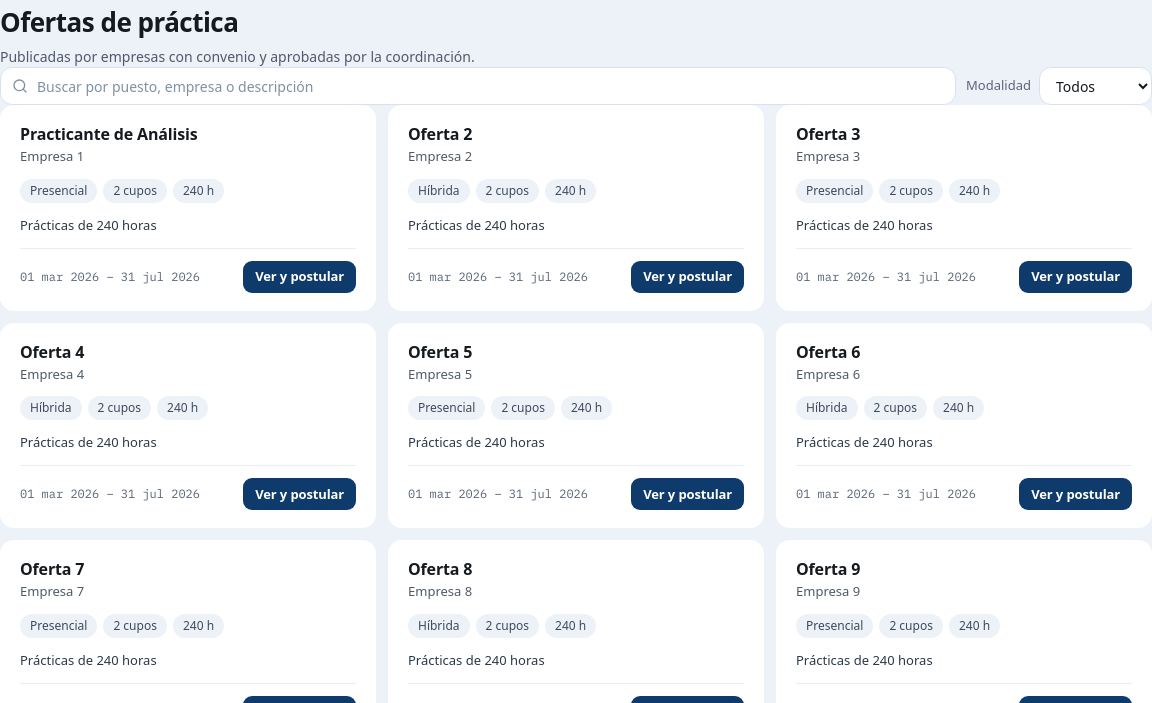
Test: OffersPage › searches without accents and filters by modality
The width and height of the screenshot is (1152, 703).
Type "analisis" into the search field at (478, 86), box [0, 67, 956, 105]
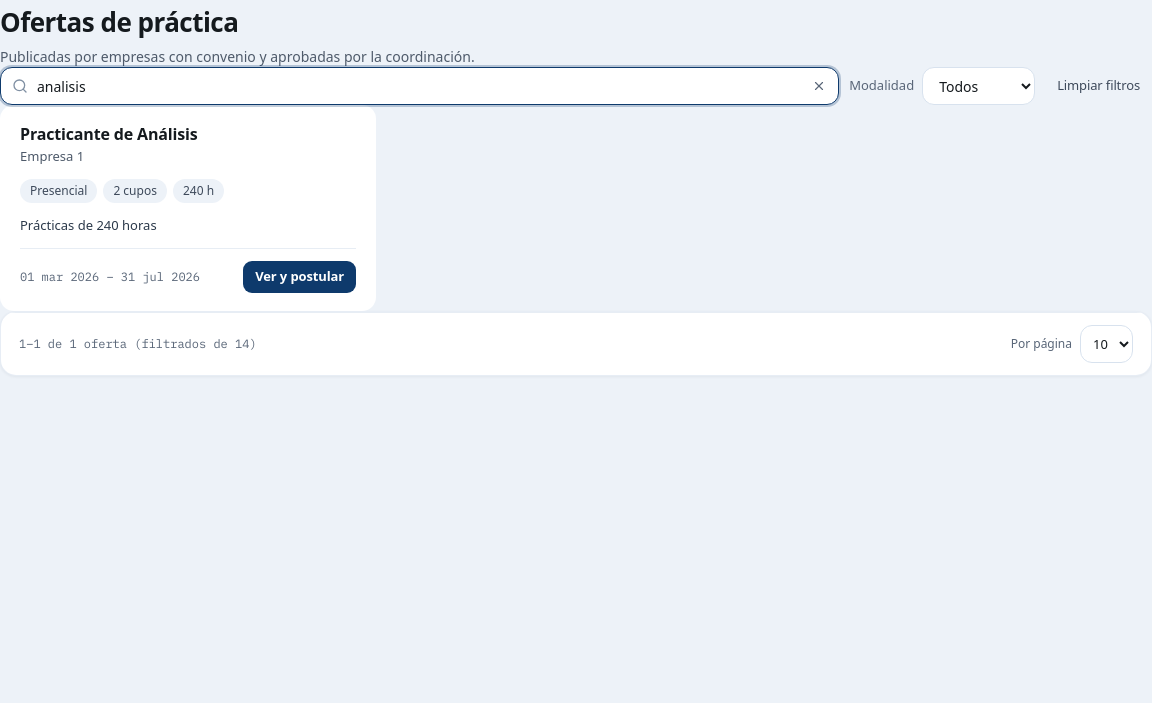
expect the heading "Practicante de Análisis" is shown: met, box [20, 123, 198, 145]
expect the text "1–1 de 1 oferta (filtrados de 14)" is shown: met, box [19, 335, 257, 353]
Clear the search field at (420, 86), box [0, 67, 839, 105]
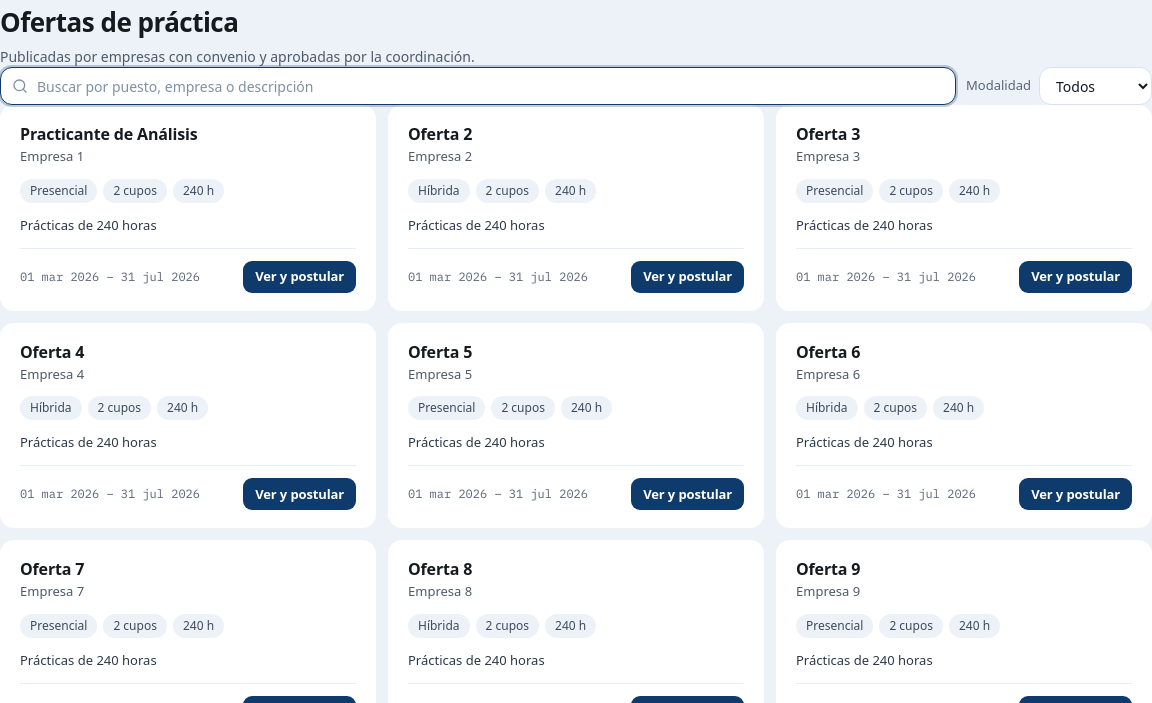
Select "Híbrida" in the dropdown labelled "Modalidad" at (1096, 86), box [1039, 67, 1151, 105]
(page scrolled)
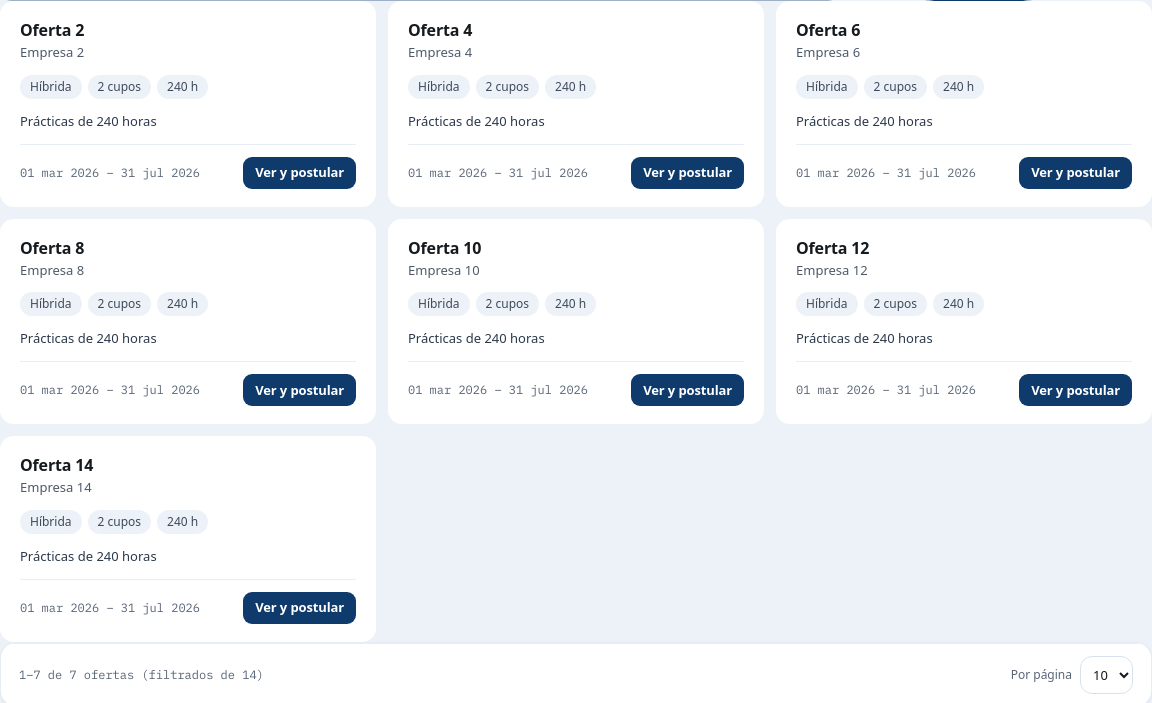
expect the text "1–7 de 7 ofertas (filtrados de 14)" is shown: met, box [19, 666, 264, 684]
